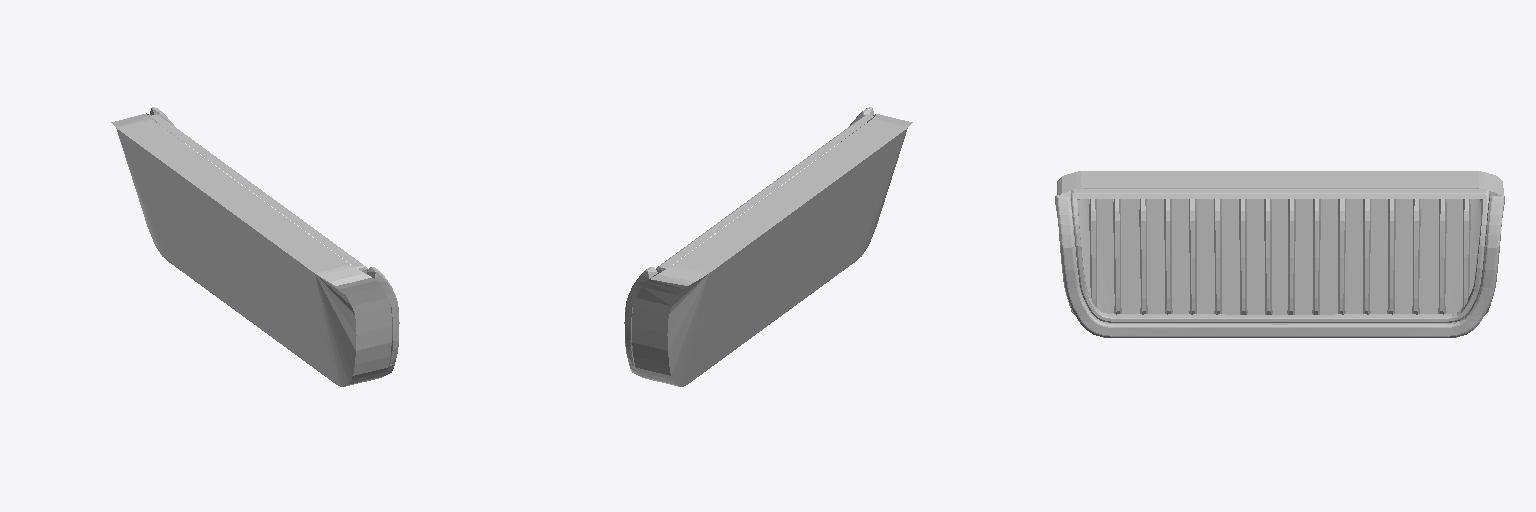
3 views of the same model, side by side, from view 1: azimuth 30°, elevation 25°; view 2: azimuth 150°, elevation 25°; view 3: azimuth 270°, elevation 25° (orthographic).
Visible parts, largest first — view 1: U843_9A_041B_C_U843_9A_041B_C_2_D, U843_9A_041B_C_1_DaS_U843_9A_041B_C, U843_9A_041B_C_U843_9A_041B_C_3_D; view 2: U843_9A_041B_C_U843_9A_041B_C_2_D, U843_9A_041B_C_1_DaS_U843_9A_041B_C, U843_9A_041B_C_U843_9A_041B_C_3_D; view 3: U843_9A_041B_C_U843_9A_041B_C_2_D, U843_9A_041B_C_1_DaS_U843_9A_041B_C, U843_9A_041B_C_U843_9A_041B_C_3_D.
Part boxes in pixels (left/top/right/bottom): U843_9A_041B_C_U843_9A_041B_C_2_D: left=111, top=113, right=391, bottom=386; U843_9A_041B_C_1_DaS_U843_9A_041B_C: left=149, top=114, right=367, bottom=274; U843_9A_041B_C_U843_9A_041B_C_3_D: left=150, top=107, right=399, bottom=375; U843_9A_041B_C_U843_9A_041B_C_2_D: left=632, top=114, right=912, bottom=386; U843_9A_041B_C_1_DaS_U843_9A_041B_C: left=655, top=114, right=874, bottom=275; U843_9A_041B_C_U843_9A_041B_C_3_D: left=624, top=107, right=873, bottom=375; U843_9A_041B_C_U843_9A_041B_C_2_D: left=1057, top=171, right=1503, bottom=314; U843_9A_041B_C_1_DaS_U843_9A_041B_C: left=1071, top=189, right=1488, bottom=322; U843_9A_041B_C_U843_9A_041B_C_3_D: left=1055, top=195, right=1504, bottom=337.
Size of the model in its own units: 20.04 by 30.75 by 96.18.